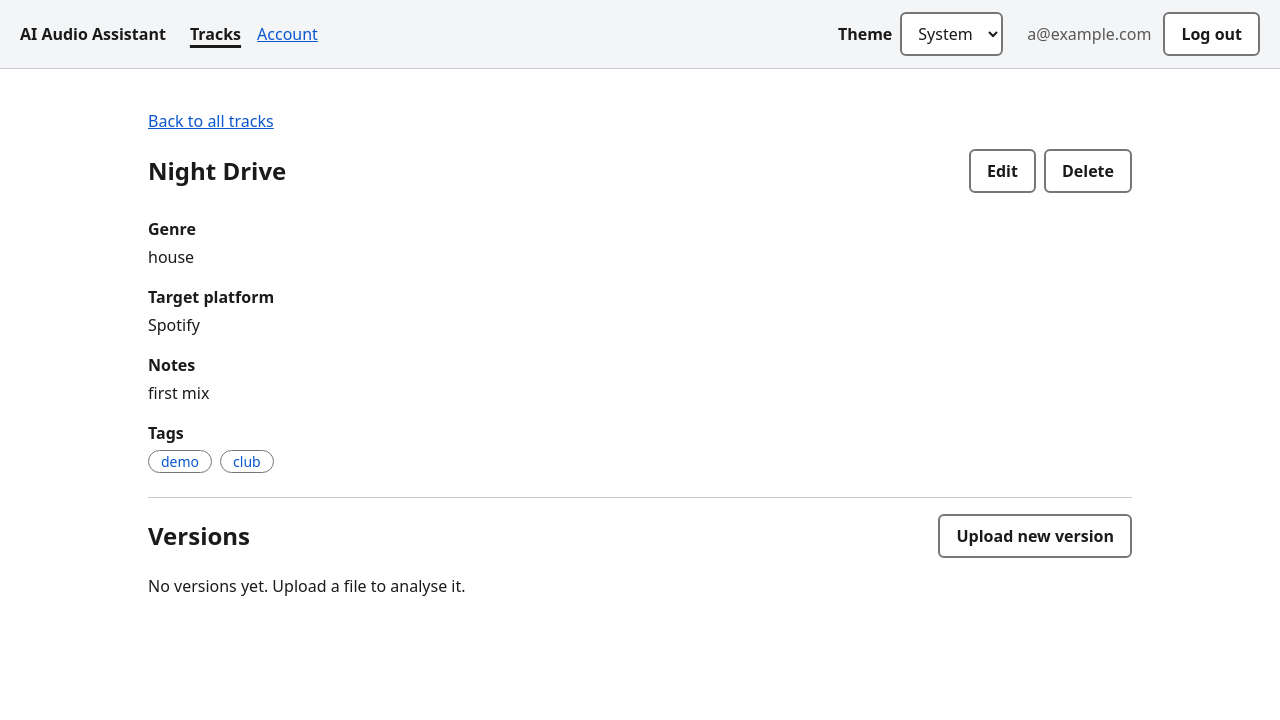
Test: deleting › stays on the page when the person cancels
expect the heading "Night Drive" is shown: met, box [148,153,286,189]
Step 1. Click the button "Delete" → (1088, 171), box [1044,149,1132,193]
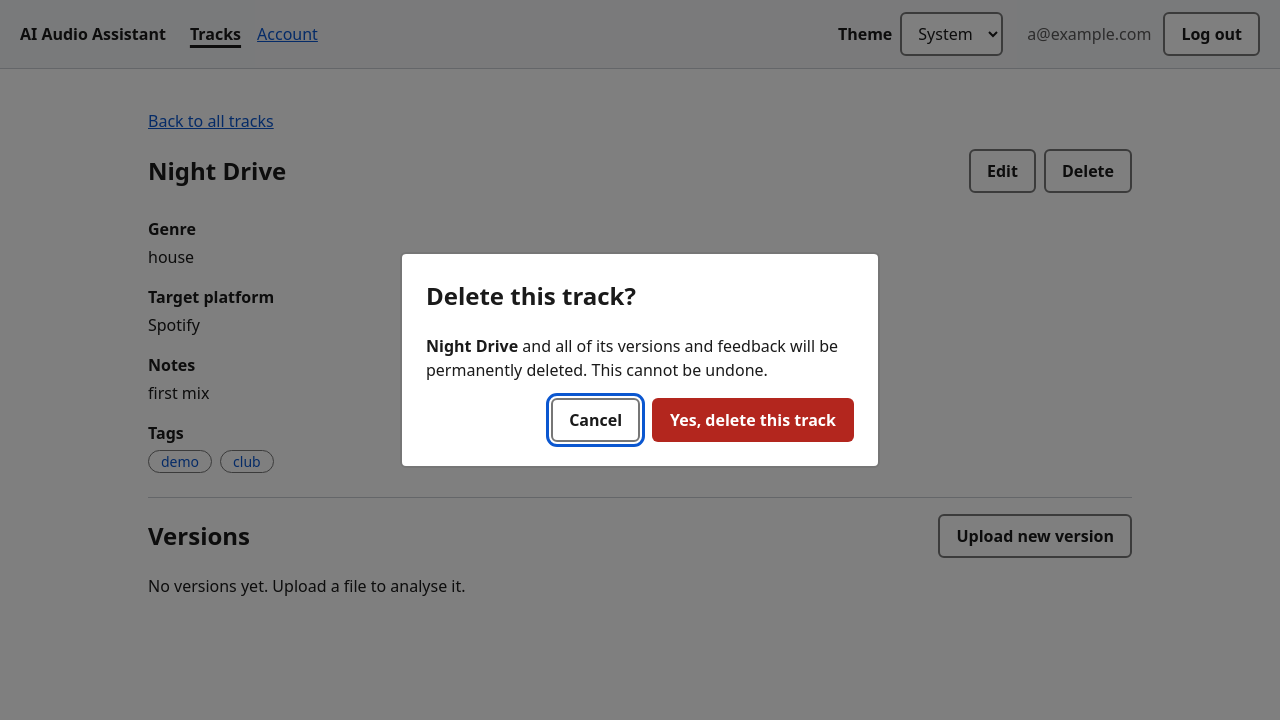
Step 2. Click the button "Cancel" → (596, 420), box [551,398,640,442]
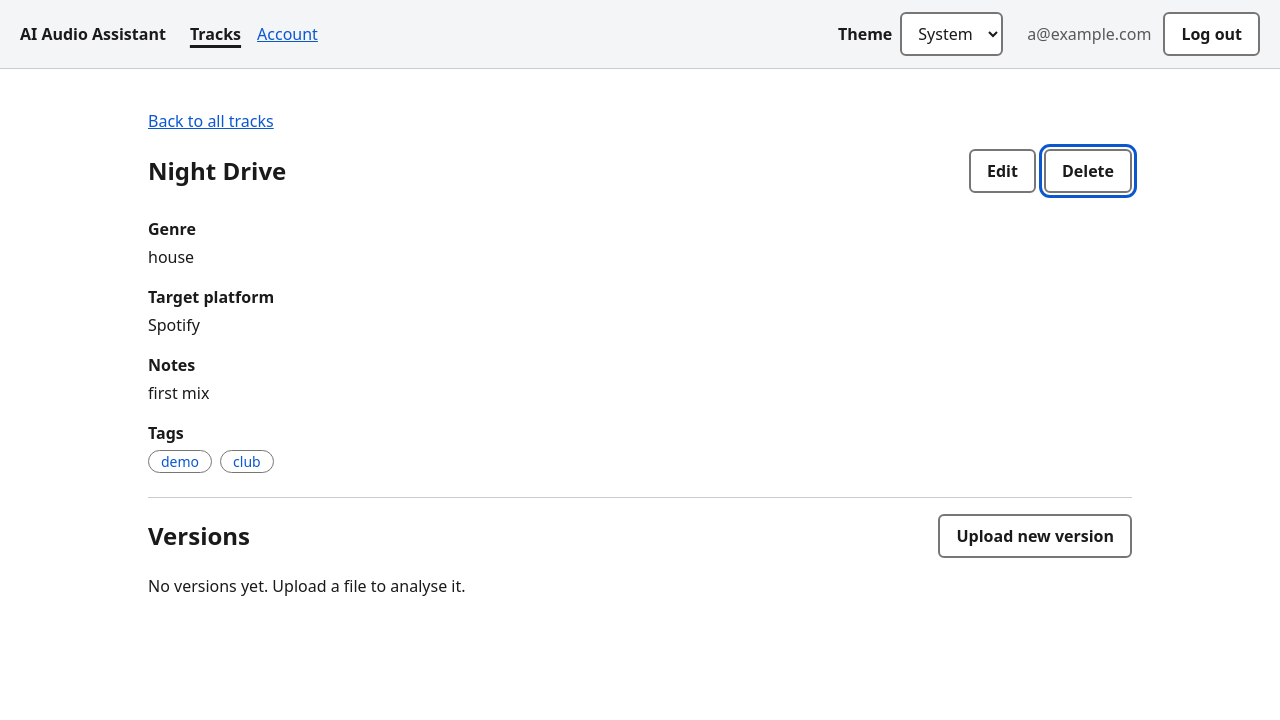
expect the dialog is gone: met
